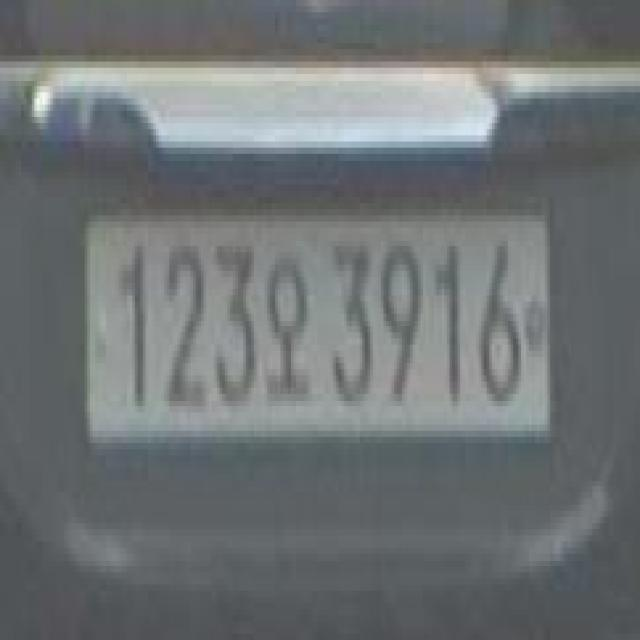illegal_plate: (86, 190, 552, 469)
